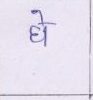e_matra: (31, 10, 48, 22)
